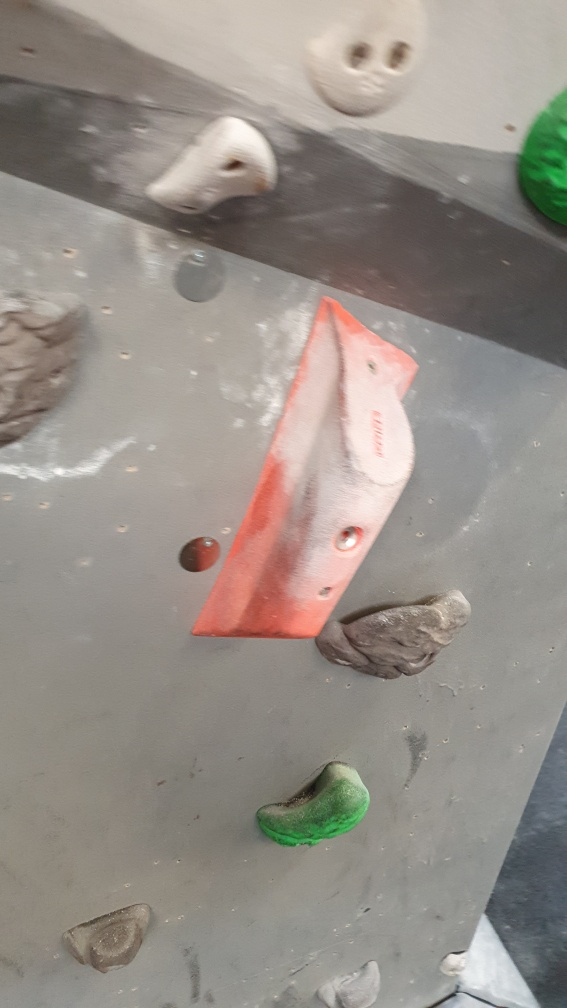Hand Start: (172, 243, 233, 309), (180, 534, 225, 575)
Jug: (314, 587, 473, 681), (251, 758, 377, 848)
Pinch: (192, 296, 422, 641)
